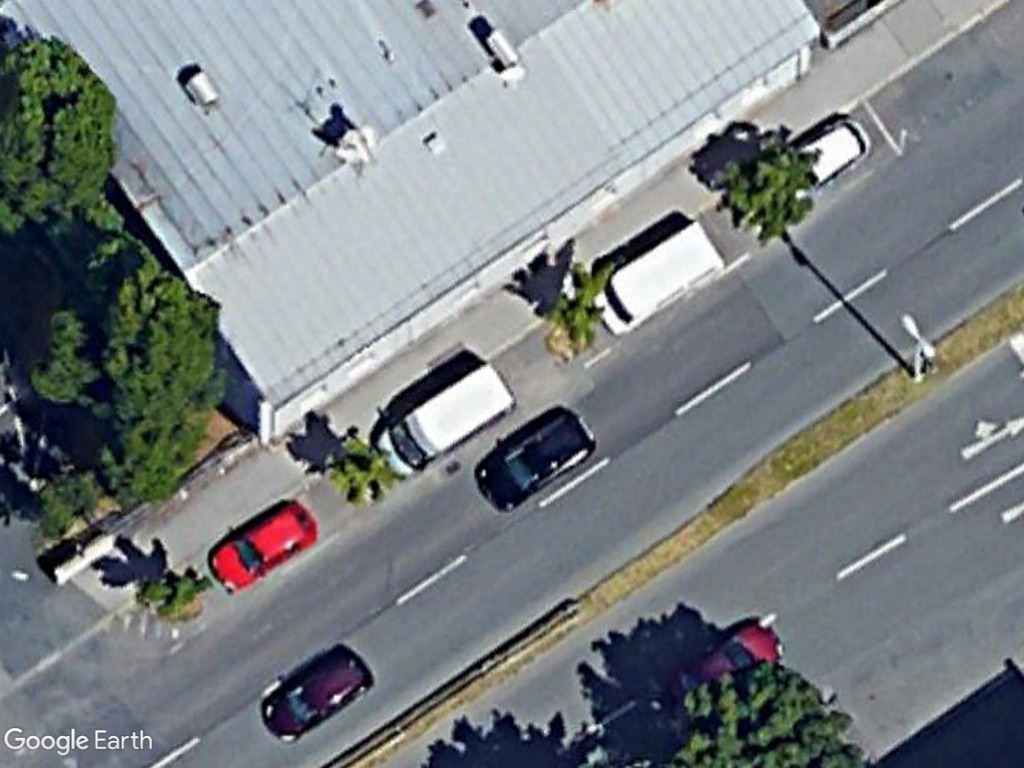car: (471, 398, 601, 513), (257, 640, 375, 747), (204, 493, 321, 597)
van: (373, 357, 520, 481), (586, 220, 720, 344)
